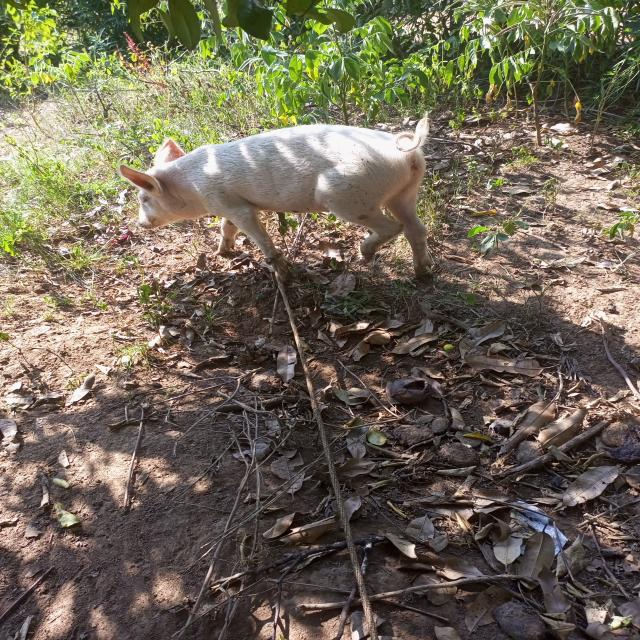pig: (65, 78, 519, 315)
